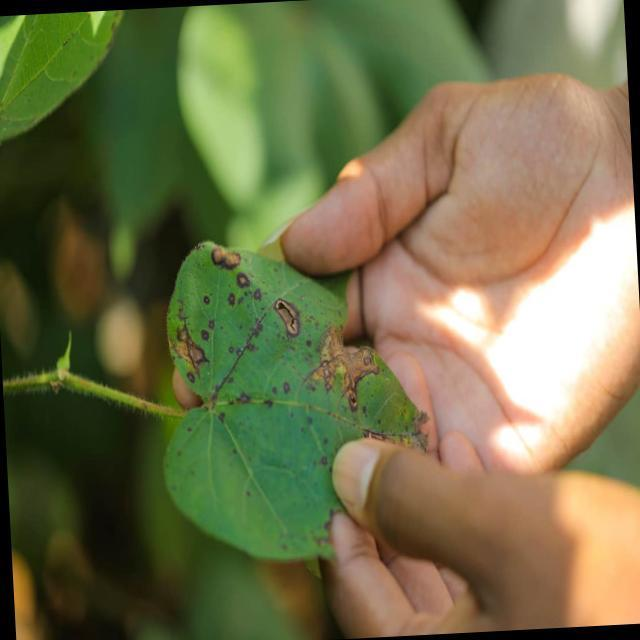Bacterial Spot: (164, 240, 318, 532)
